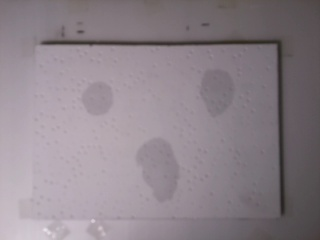Water_detected: (132, 145, 179, 198), (199, 74, 228, 115), (84, 84, 117, 116)
